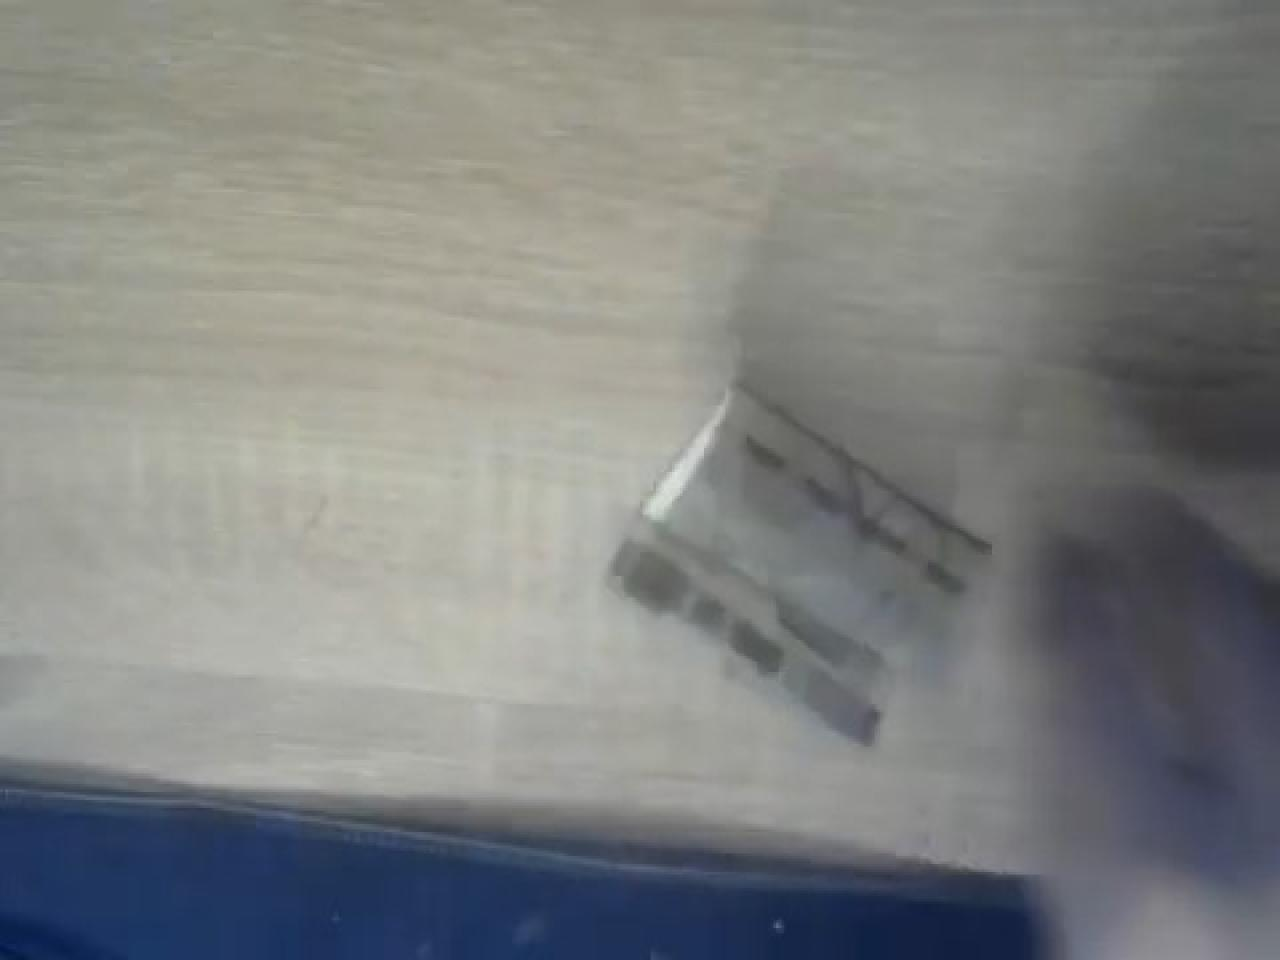10leva: (611, 384, 990, 746)
